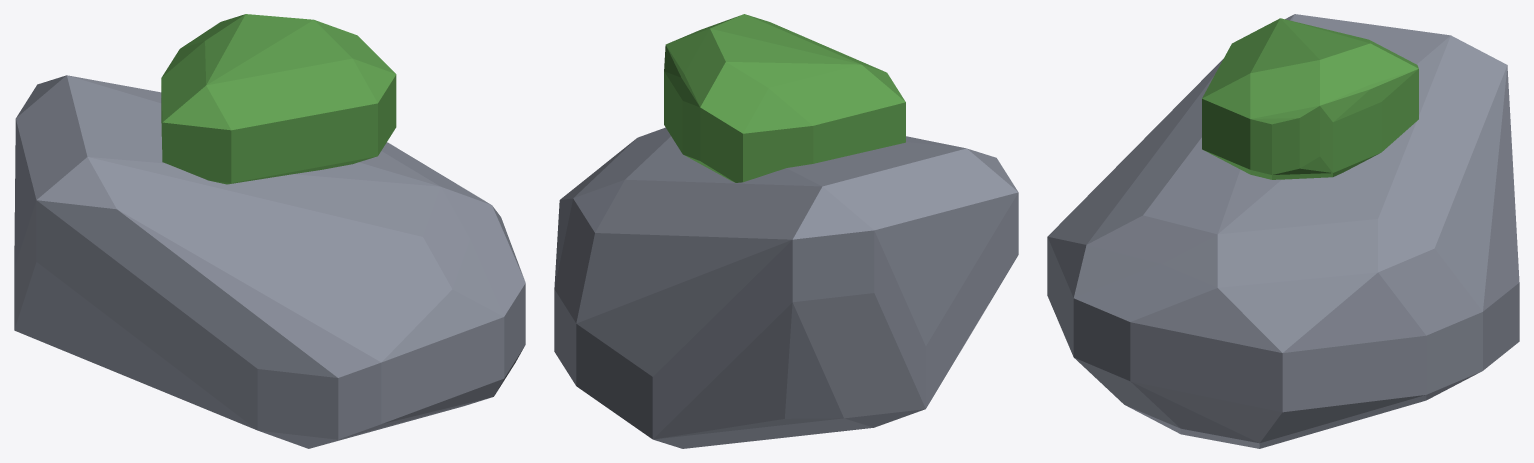
Rendered from rocks.glb.
3 views of the same model, side by side, from view 1: azimuth 30°, elevation 25°; view 2: azimuth 150°, elevation 25°; view 3: azimuth 270°, elevation 25° (orthographic). The views are drawn at different scales.
Visible parts, largest first — view 1: Rock_8A8F9C, Moss_5E9E4E; view 2: Rock_8A8F9C, Moss_5E9E4E; view 3: Rock_8A8F9C, Moss_5E9E4E.
Boxes of the visible parts, x1,y1,x2,y2 form: Rock_8A8F9C: (14,75,525,448); Moss_5E9E4E: (161,14,396,184); Rock_8A8F9C: (554,127,1018,448); Moss_5E9E4E: (664,14,905,182); Rock_8A8F9C: (1047,14,1519,448); Moss_5E9E4E: (1202,18,1418,179).
Bounding box in the file's own units: 9.72 × 7.16 × 9.04.
